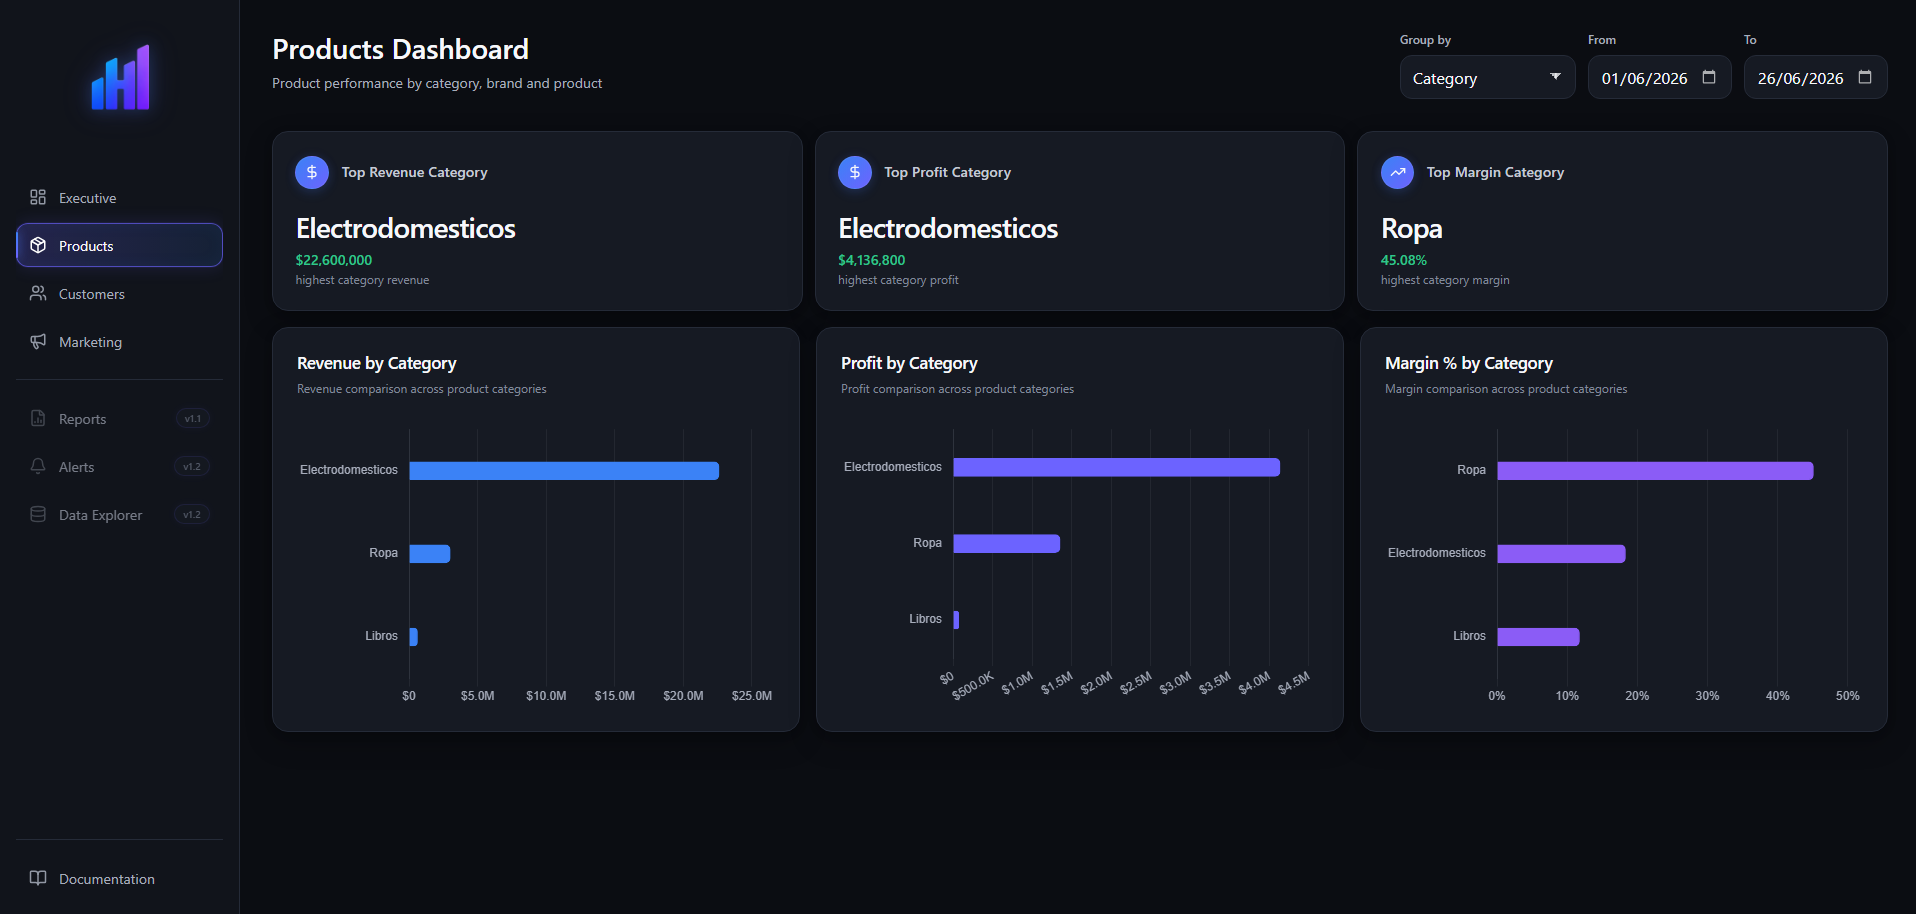

This screenshot's page, from the dashboard's own definition file:
{"tool":"powerbi","page":{"name":"Dashboard Productos","canvas":[1280,720],"ordinal":1},"visuals":[{"type":"textbox","box":[18,0,439,62],"z":0},{"type":"textbox","box":[18,55,303,44],"z":1000},{"type":"cardVisual","title":"Revenue","fields":{"Data":["_Medidas.Top Revenue Dinámico"]},"box":[18,116,226,125],"z":2000},{"type":"cardVisual","title":"Margin ","fields":{"Data":["_Medidas.Top Margin Dinámico"]},"box":[698,116,226,125],"z":3000},{"type":"cardVisual","title":"Profit","fields":{"Data":["_Medidas.Top Profit Dinámico"]},"box":[358,116,226,125],"z":4000},{"type":"slicer","fields":{"Values":["Selector Productos.Selector Productos"]},"box":[1038,116,226,125],"z":5000},{"type":"barChart","fields":{"Category":["Categoria.nombre"],"Y":["_Medidas.Revenue"]},"box":[18,287,398,343],"z":6000},{"type":"barChart","fields":{"Category":["Categoria.nombre"],"Y":["_Medidas.Profit"]},"box":[442,287,398,343],"z":7000},{"type":"barChart","fields":{"Category":["Categoria.nombre"],"Y":["_Medidas.Métrica Secundaria Productos"]},"box":[866,287,398,343],"z":8000},{"type":"slicer","fields":{"Values":["Calendario.Date"]},"box":[1028,10,238,89],"z":9000}]}

Visuals, with their boxes on the page's 1280x720 design canvas (x1, y1, x2, y2). These are canvas units, not pixel positions in the 1916x914 screenshot, which may show the page scaled, cropped or inside an application window:
textbox: <box>18,0,457,62</box>
textbox: <box>18,55,321,99</box>
"Revenue" cardVisual: <box>18,116,244,241</box>
"Margin " cardVisual: <box>698,116,924,241</box>
"Profit" cardVisual: <box>358,116,584,241</box>
slicer - Selector Productos.Selector Productos: <box>1038,116,1264,241</box>
barChart - Categoria.nombre x _Medidas.Revenue: <box>18,287,416,630</box>
barChart - Categoria.nombre x _Medidas.Profit: <box>442,287,840,630</box>
barChart - Categoria.nombre x _Medidas.Métrica Secundaria Productos: <box>866,287,1264,630</box>
slicer - Calendario.Date: <box>1028,10,1266,99</box>
